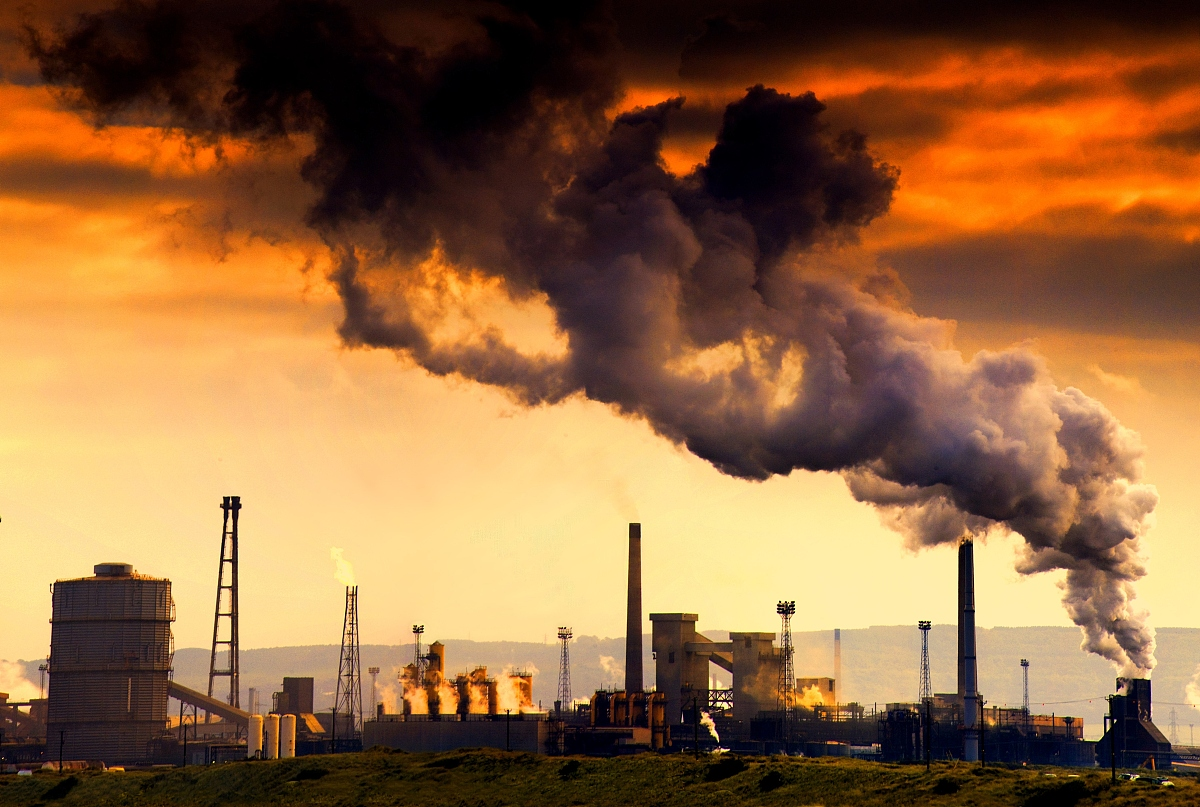dust: (914, 365, 1181, 702)
